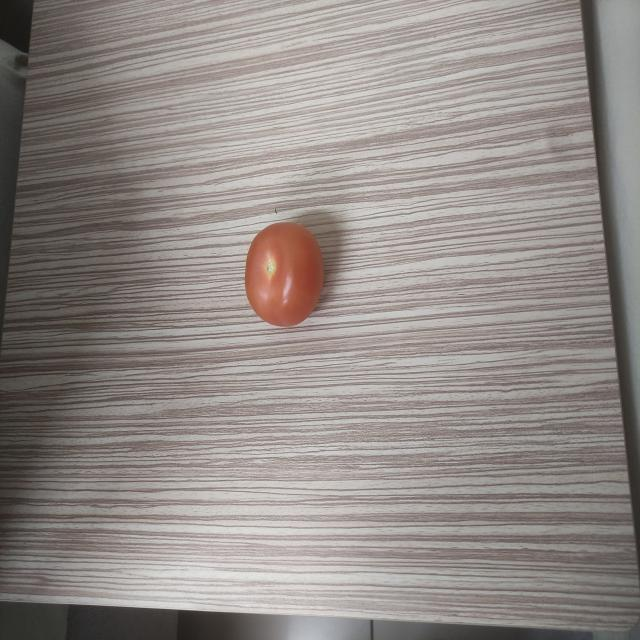sari: (236, 216, 336, 328)
